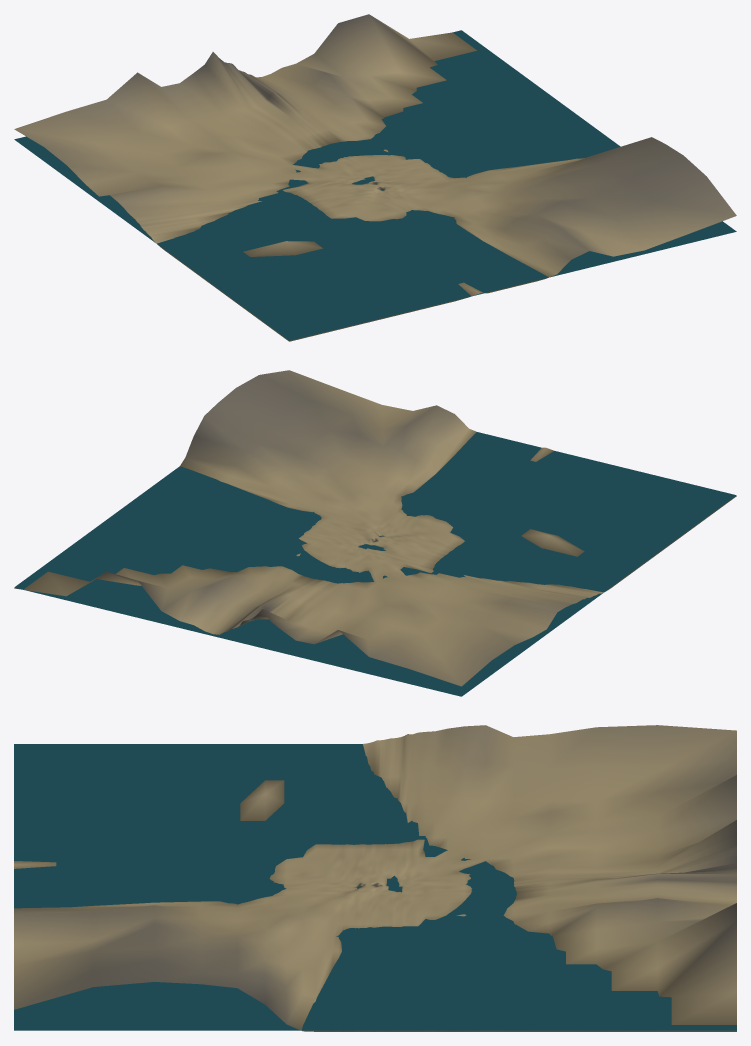
3 views of the same model, one above another, from view 1: azimuth 30°, elevation 25°; view 2: azimuth 150°, elevation 25°; view 3: azimuth 270°, elevation 25° (orthographic). The views are drawn at different scales.
Visible parts, largest first — view 1: terrain-ch01.001; view 2: terrain-ch01.001; view 3: terrain-ch01.001.
Part boxes in pixels (box(x1,y1,x2,y2)): terrain-ch01.001: box(14, 14, 736, 341); terrain-ch01.001: box(14, 370, 736, 696); terrain-ch01.001: box(14, 725, 736, 1031).
Size of the model in its own units: 3188 by 294 by 3396.
